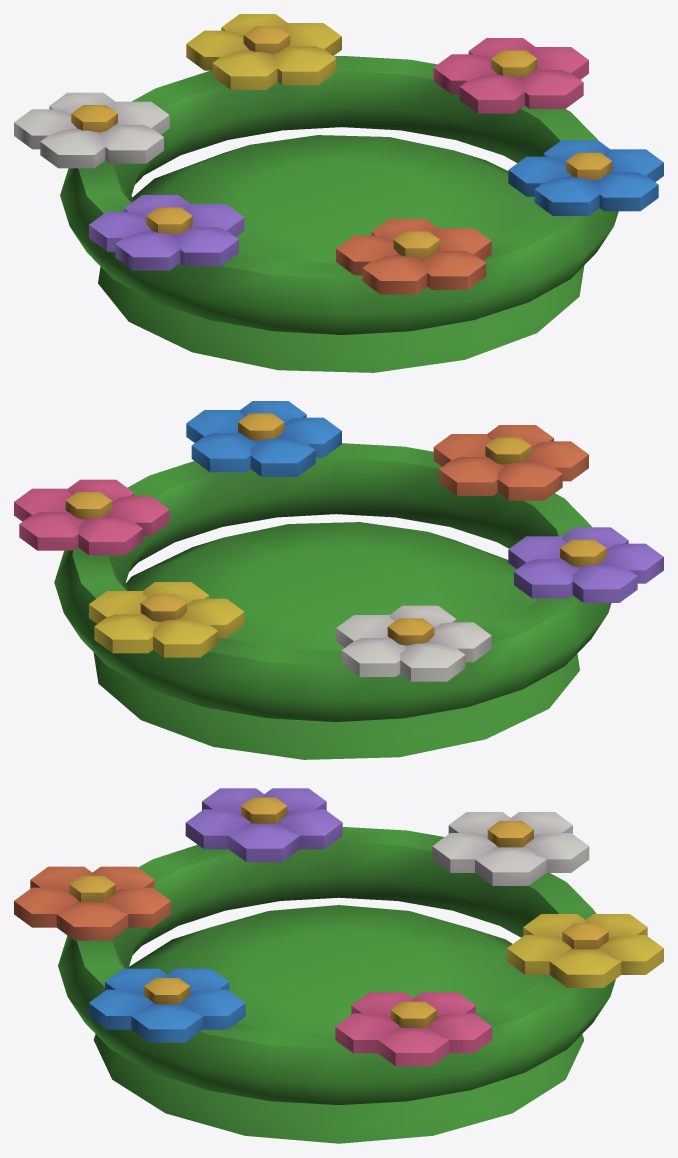
Rendered from hat_flower.glb.
The picture shows the model from 3 angles, top to bottom: view 1: azimuth 30°, elevation 25°; view 2: azimuth 150°, elevation 25°; view 3: azimuth 270°, elevation 25°; orthographic projection.
Visible parts, largest first — view 1: hat; view 2: hat; view 3: hat.
Part boxes in pixels (x1,y1,x2,y2): hat: (14,14,663,372); hat: (14,401,663,759); hat: (14,788,663,1143).
Size of the model in its own units: 0.4211 by 0.103 by 0.4371.
